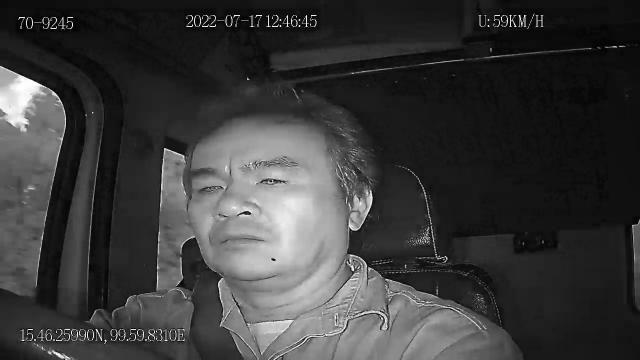SafeDriving: (188, 172, 230, 202), (250, 166, 298, 192)
Seatbelt: (188, 272, 246, 360)
